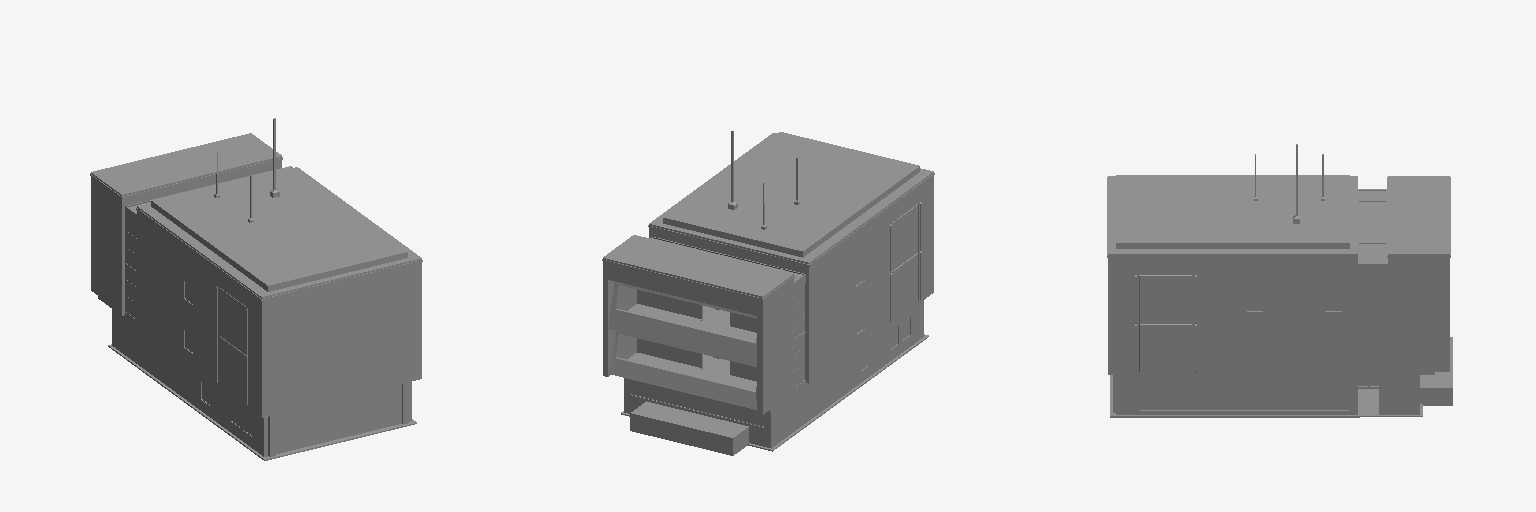
The model's file is ResidentialBuildings001.obj.
3 views of the same model, side by side, from view 1: azimuth 30°, elevation 25°; view 2: azimuth 150°, elevation 25°; view 3: azimuth 270°, elevation 25° (orthographic).
Visible parts, largest first — view 1: Residential_Buildings_001_Cube.001; view 2: Residential_Buildings_001_Cube.001; view 3: Residential_Buildings_001_Cube.001.
Boxes of the visible parts, <box> form: Residential_Buildings_001_Cube.001: <box>90,118,422,460</box>; Residential_Buildings_001_Cube.001: <box>602,131,934,455</box>; Residential_Buildings_001_Cube.001: <box>1107,144,1452,417</box>.
Bounding box in the file's own units: 12.59 × 18.39 × 23.1.